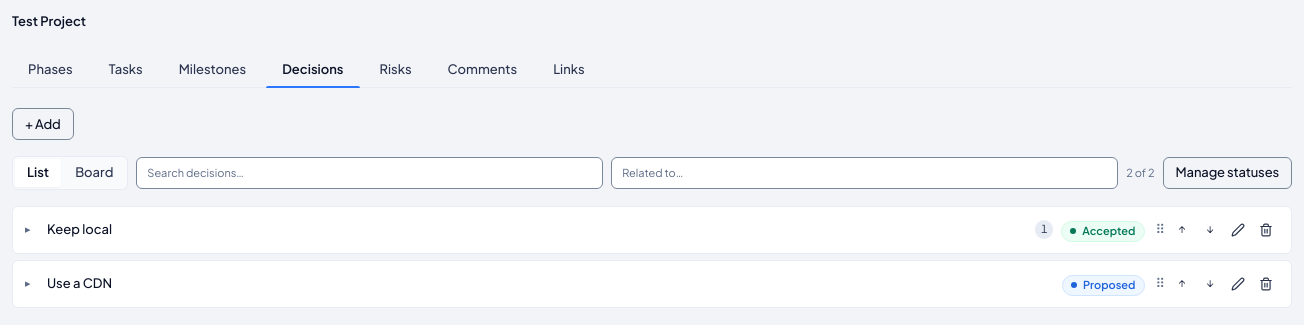
Test: PlanningPanel › filters decisions to a selected related task
expect the text "Keep local" is shown: met, box [47,221,112,237]
In the field named "Filter decisions by related to item": (865, 173) [611,157,1118,189], type "Task · Ship release"
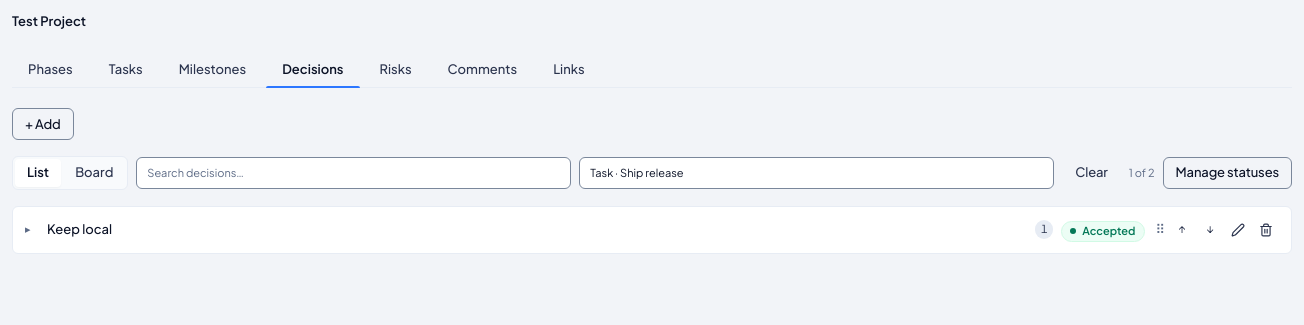
expect the text "Keep local" is shown: met, box [47,221,112,237]
expect the button "Use a CDN" is gone: met
